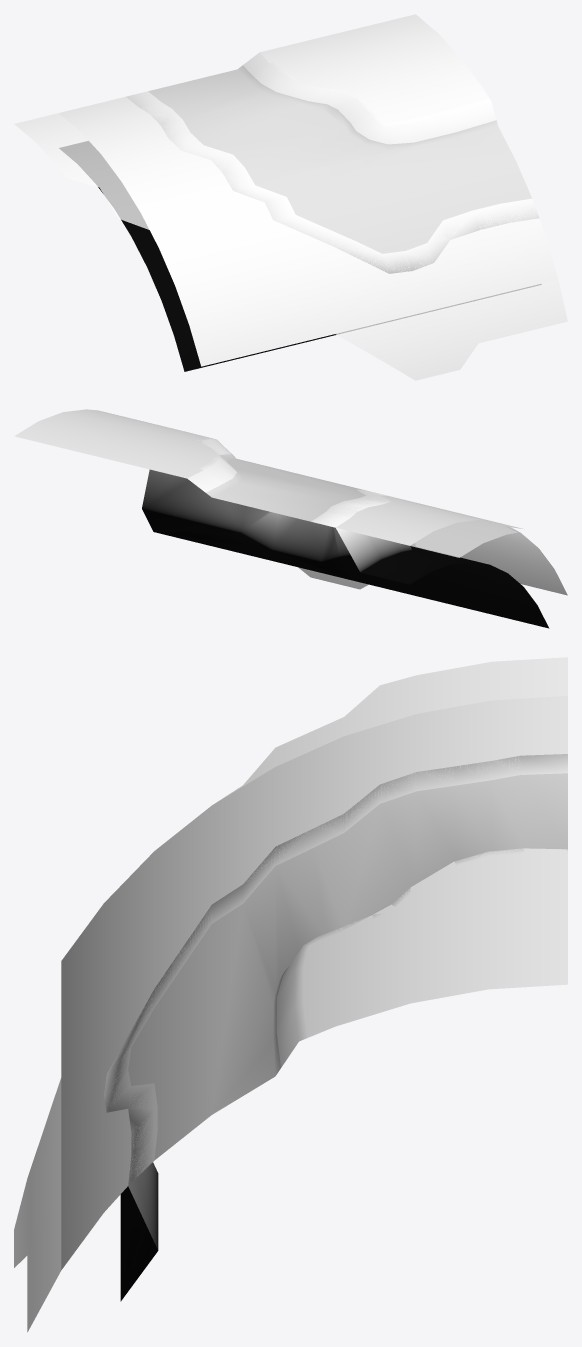
The model's file is grd_Isw_0.dae.
3 views of the same model, one above another, from view 1: azimuth 30°, elevation 25°; view 2: azimuth 150°, elevation 25°; view 3: azimuth 270°, elevation 25° (orthographic). The views are drawn at different scales.
Visible parts, largest first — view 1: grd_Isw_0; view 2: grd_Isw_0; view 3: grd_Isw_0.
Boxes of the visible parts, left/top/right/bottom form: grd_Isw_0: left=14, top=14, right=567, bottom=380; grd_Isw_0: left=14, top=409, right=567, bottom=628; grd_Isw_0: left=14, top=657, right=567, bottom=1332.
Size of the model in its own units: 576 by 293 by 387.
Materials: 6 (1 with a texture image).
